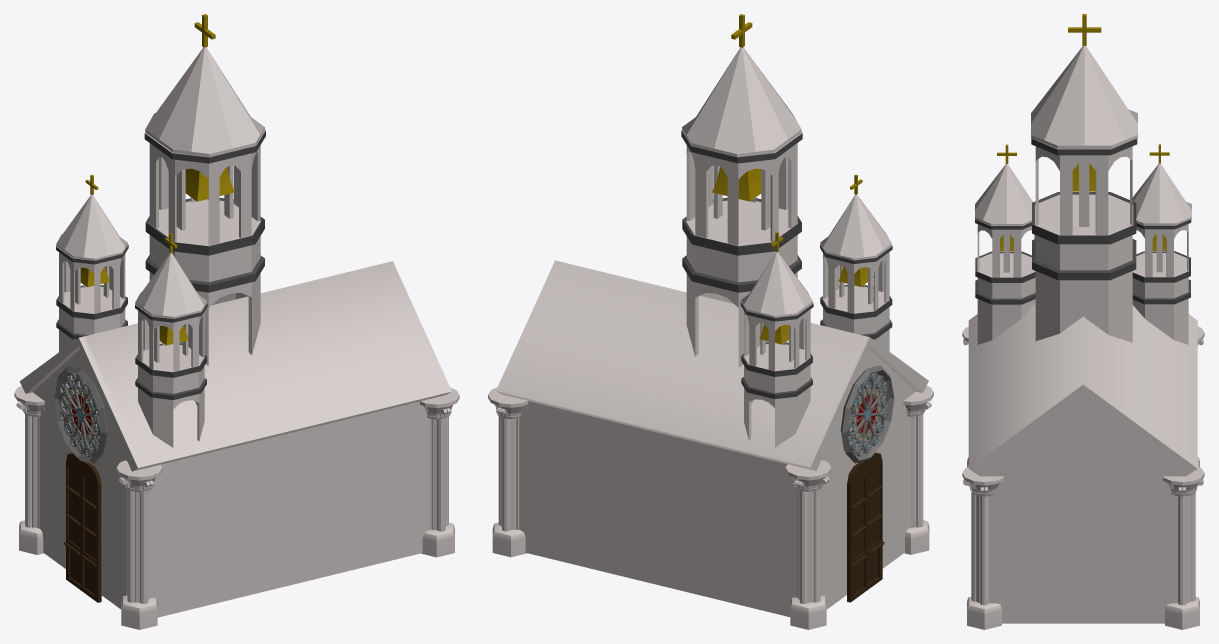
File: ChurchExterior.fbx
3 views of the same model, side by side, from view 1: azimuth 30°, elevation 25°; view 2: azimuth 150°, elevation 25°; view 3: azimuth 270°, elevation 25° (orthographic). The views are drawn at different scales.
Visible parts, largest first — view 1: FINISHREOSE18; view 2: FINISHREOSE18; view 3: FINISHREOSE18.
Part boxes in pixels (x1,y1,x2,y2): FINISHREOSE18: (14, 14, 459, 629); FINISHREOSE18: (488, 14, 933, 629); FINISHREOSE18: (962, 14, 1204, 629).
Bounding box in the file's own units: 28.92 × 44.72 × 18.63.
